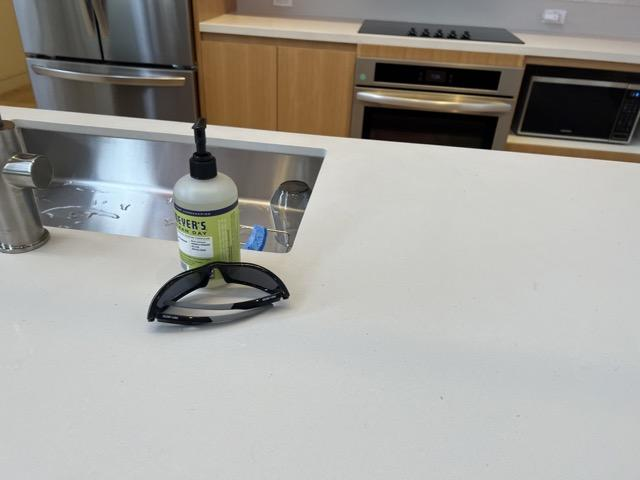Sunglasses: (148, 261, 291, 326)
